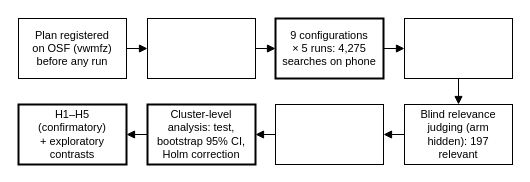
The diagram is 530 pixels wide and 182 high, and some of its shapes have lost their labels. Here are the shapes that lost their labels. From the top down, the centre of each, then its label:
At pixel 201 48: "95 real-use queries (75 name-like, 20 sentence-like)".
At pixel 458 48: "Depth-10 pool of all arms: 1,442 results".
At pixel 329 134: "Exclusions as registered: 77 scored queries, 64 clusters".
